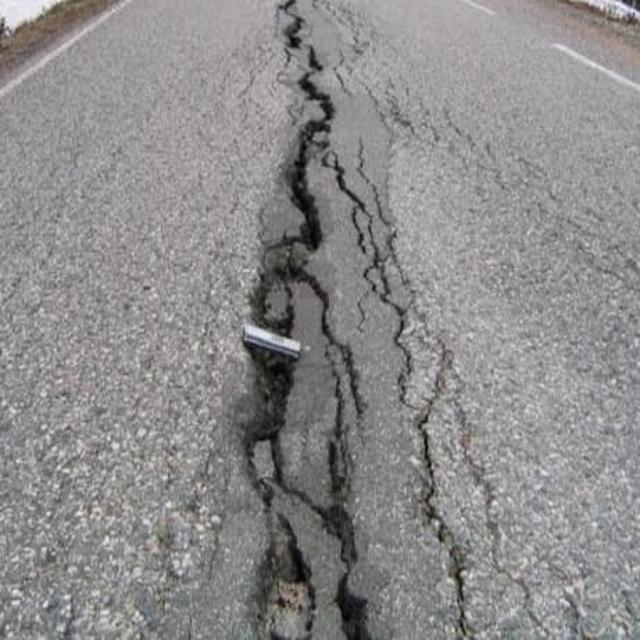Memanjang: (230, 0, 404, 640)
